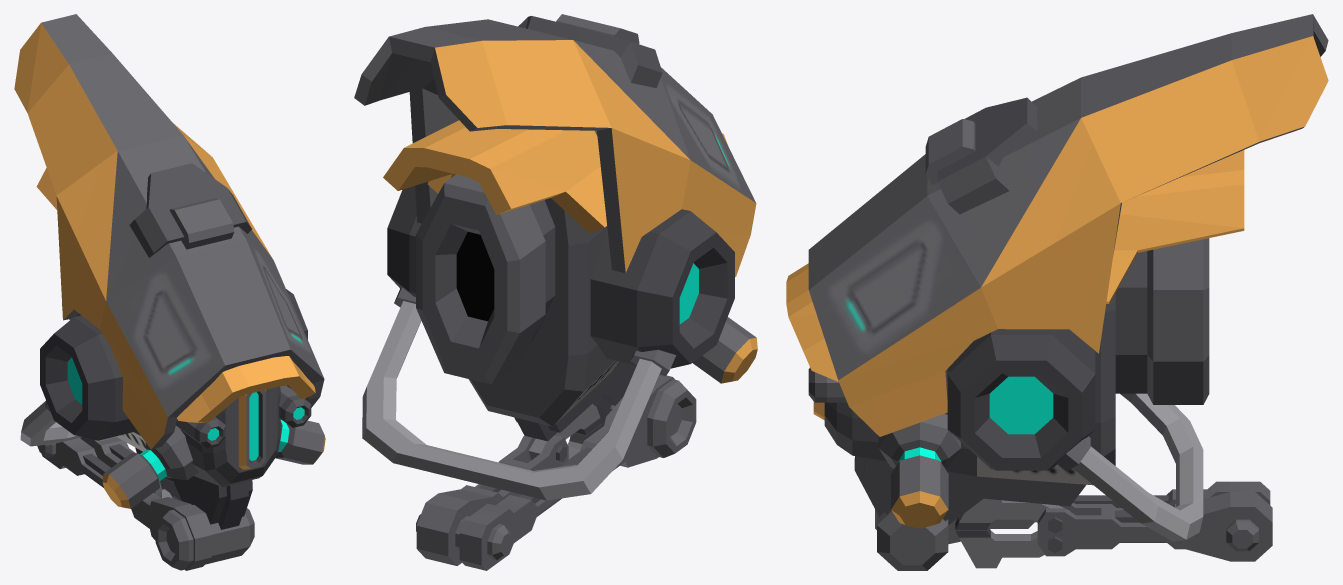
Rendered from worlds_SM_Prop_Drone_02.gltf.
The picture shows the model from 3 angles, left to right: view 1: azimuth 30°, elevation 25°; view 2: azimuth 150°, elevation 25°; view 3: azimuth 270°, elevation 25°; orthographic projection. The views are drawn at different scales.
Parts seen in each view (by area): view 1: SM_Prop_Drone_02, SM_Prop_Drone_02_Arm_02; view 2: SM_Prop_Drone_02, SM_Prop_Drone_02_Arm_02, SM_Prop_Drone_02_Claw_02; view 3: SM_Prop_Drone_02, SM_Prop_Drone_02_Arm_02, SM_Prop_Drone_02_Claw_01, SM_Prop_Drone_02_Claw_02.
Part boxes in pixels (box(x1,y1,x2,y2)): SM_Prop_Drone_02: box(14, 14, 325, 570); SM_Prop_Drone_02_Arm_02: box(37, 436, 178, 499); SM_Prop_Drone_02: box(354, 14, 757, 570); SM_Prop_Drone_02_Arm_02: box(416, 435, 568, 565); SM_Prop_Drone_02_Claw_02: box(528, 404, 602, 461); SM_Prop_Drone_02: box(786, 14, 1328, 570); SM_Prop_Drone_02_Arm_02: box(1037, 492, 1272, 561); SM_Prop_Drone_02_Claw_01: box(955, 527, 1062, 568); SM_Prop_Drone_02_Claw_02: box(955, 498, 1070, 533).
Size of the model in its own units: 0.6465 by 1.2 by 1.09.
Materials: 1 (1 with a texture image).
